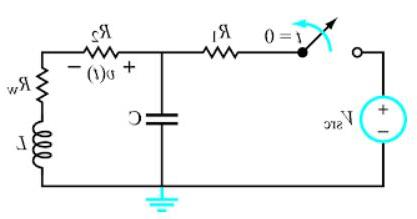inductor: (24, 109, 56, 178)
